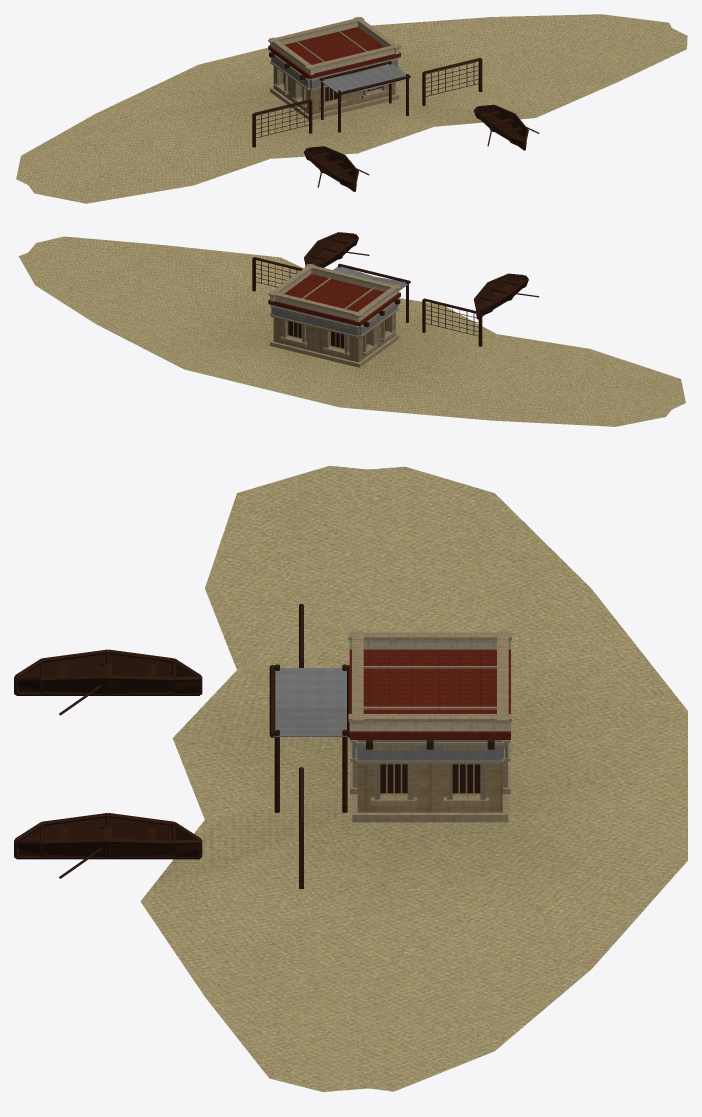
Rendered from fishing_boats-bronze.glb.
The picture shows the model from 3 angles, top to bottom: view 1: azimuth 30°, elevation 25°; view 2: azimuth 150°, elevation 25°; view 3: azimuth 270°, elevation 25°; orthographic projection. The views are drawn at different scales.
Visible parts, largest first — view 1: LOD0; view 2: LOD0; view 3: LOD0.
Part boxes in pixels (bbox=[...]): LOD0: bbox=[16, 14, 687, 203]; LOD0: bbox=[18, 232, 685, 426]; LOD0: bbox=[14, 465, 687, 1091].
Size of what is drawn, in the model's own units: 4.76 by 0.3539 by 2.09.
Materials: 3 (3 with a texture image).
